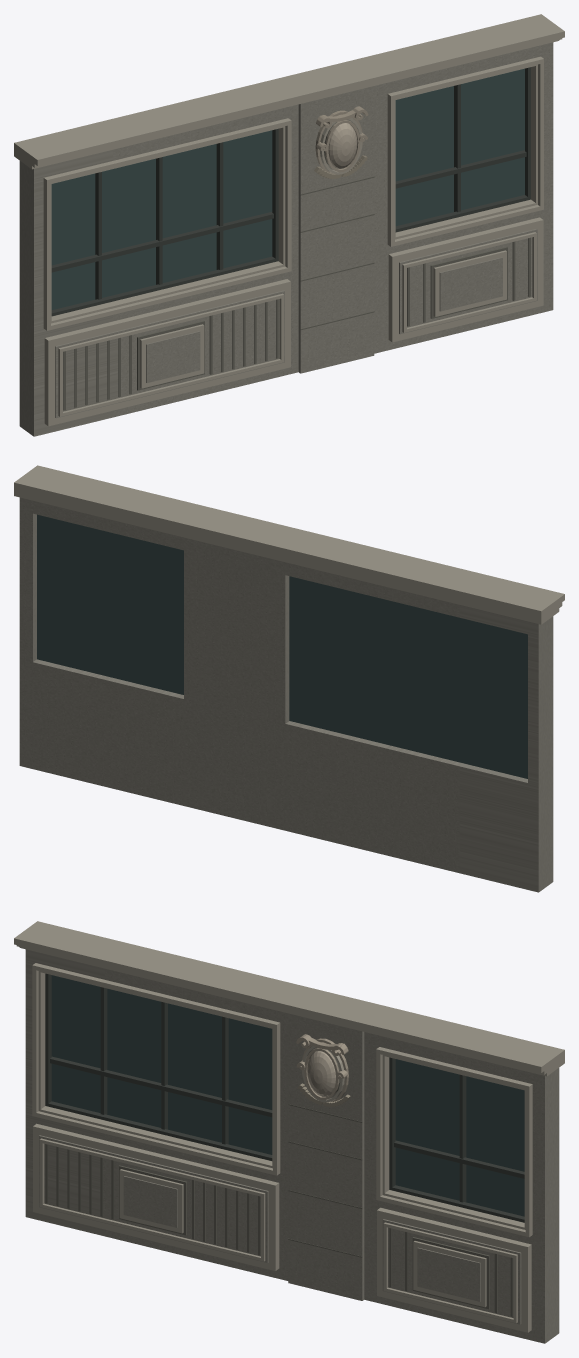
Rendered from huangpu-meilun-east-oval-wreath-and-recessed-panel-lod.glb.
3 views of the same model, one above another, from view 1: azimuth 30°, elevation 25°; view 2: azimuth 150°, elevation 25°; view 3: azimuth 330°, elevation 25° (orthographic).
Parts seen in each view (by area): view 1: 美伦大楼东楼椭圆花环与层叠窗裙; view 2: 美伦大楼东楼椭圆花环与层叠窗裙; view 3: 美伦大楼东楼椭圆花环与层叠窗裙.
Boxes of the visible parts, bbox=[...] form: 美伦大楼东楼椭圆花环与层叠窗裙: bbox=[14, 14, 564, 436]; 美伦大楼东楼椭圆花环与层叠窗裙: bbox=[14, 465, 564, 892]; 美伦大楼东楼椭圆花环与层叠窗裙: bbox=[14, 921, 564, 1343].
Size of the model in its own units: 6.35 by 3.26 by 0.544.
Materials: 8 (1 with a texture image).
